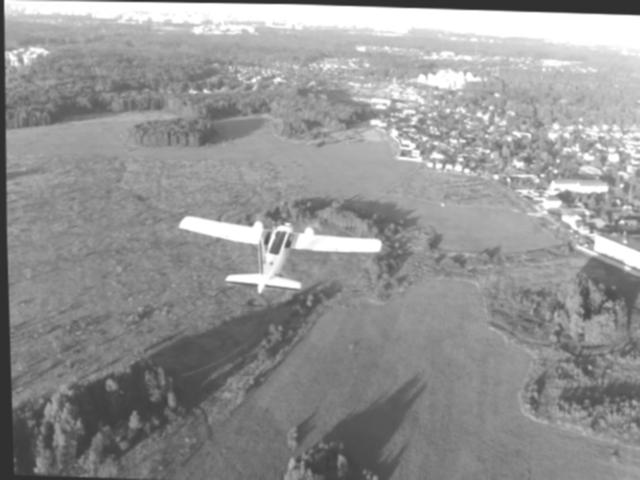hedef: (166, 207, 383, 299)
